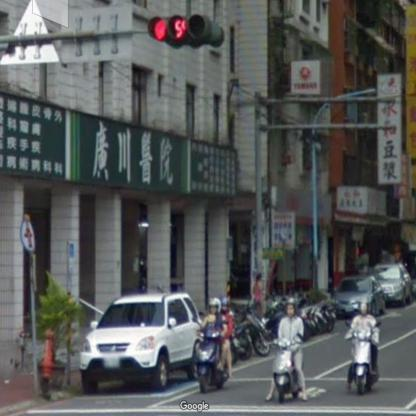Red Light: (148, 17, 219, 41)
